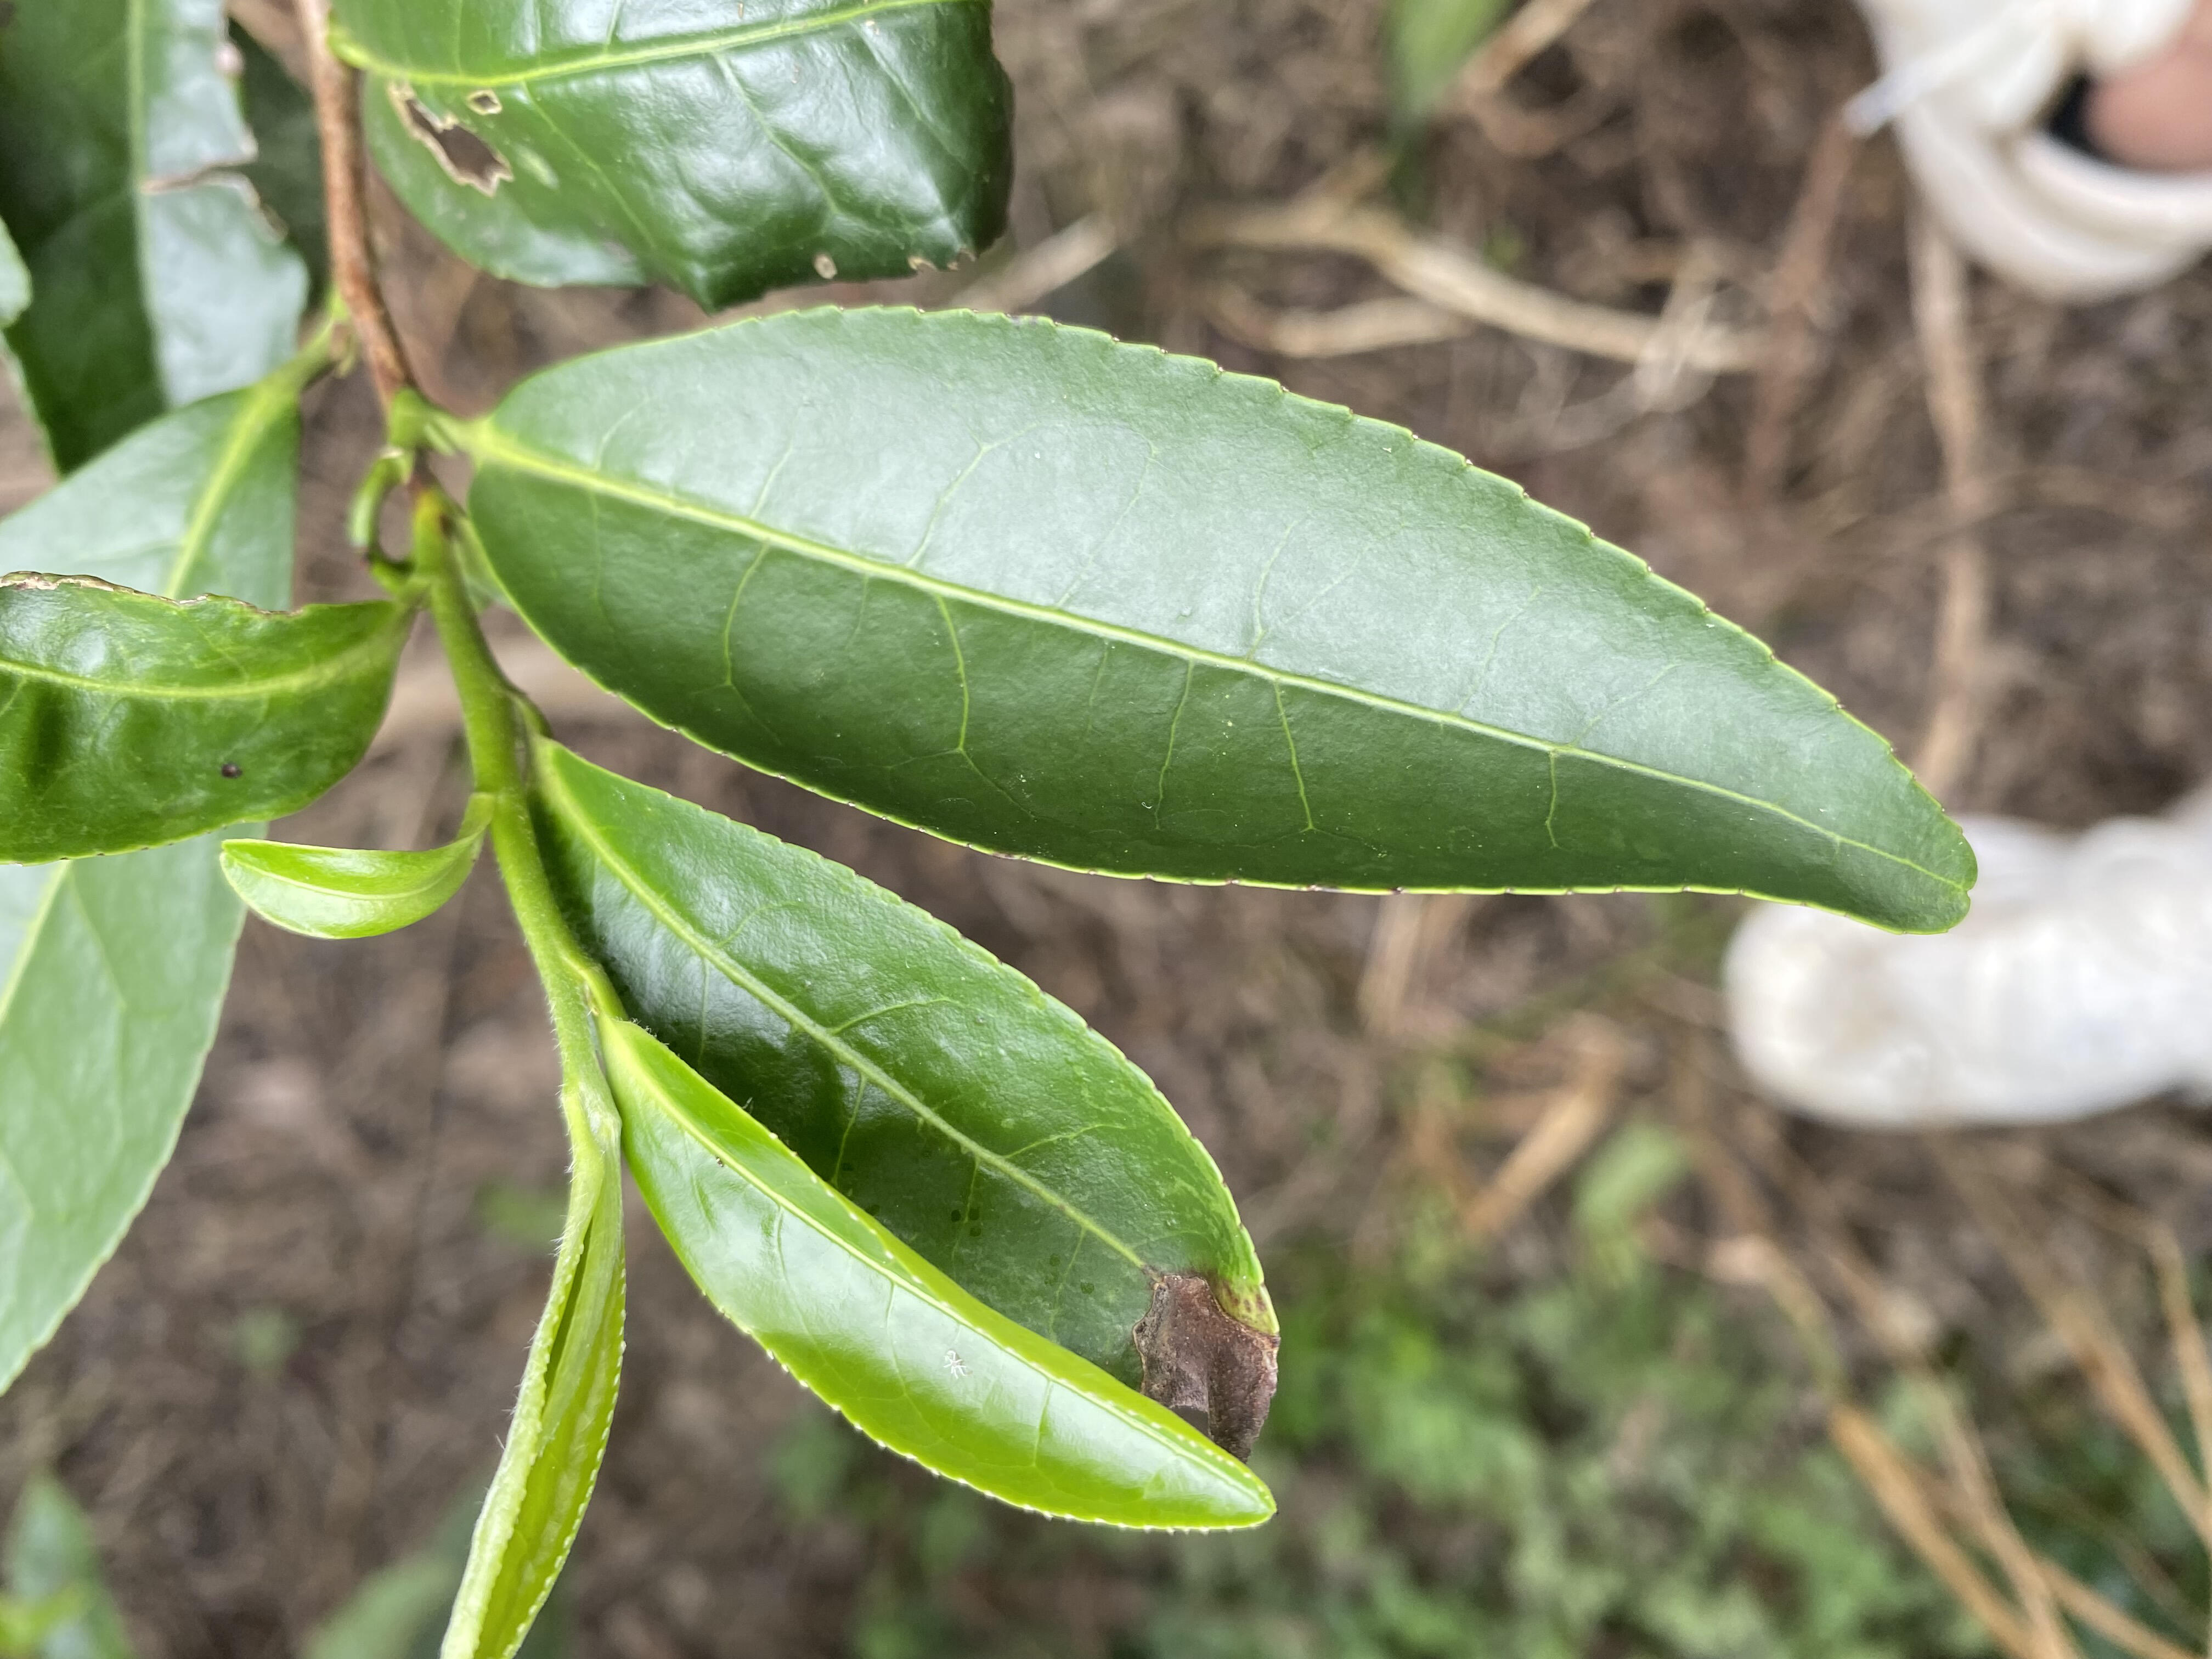chihuo_high: (326, 2, 1021, 314)
healthy: (474, 303, 1980, 927), (599, 1014, 1277, 1535), (216, 836, 484, 946)
tanju_high: (529, 735, 1273, 1467)
